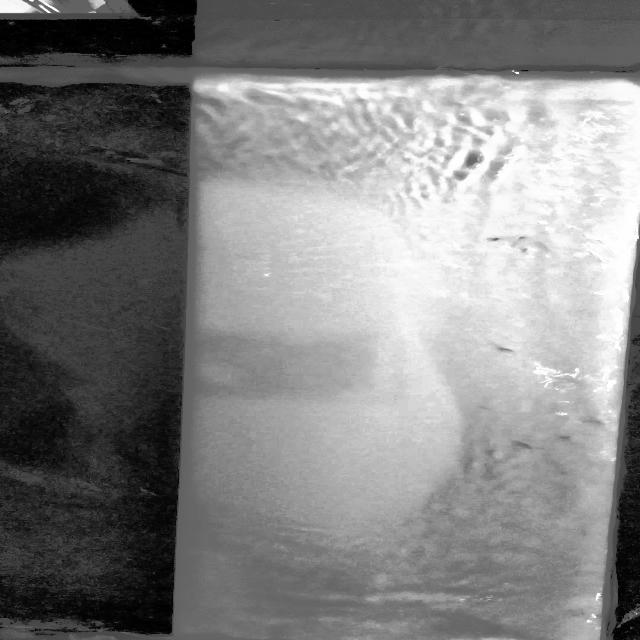shrimp: (471, 336, 527, 361), (475, 231, 510, 242)
